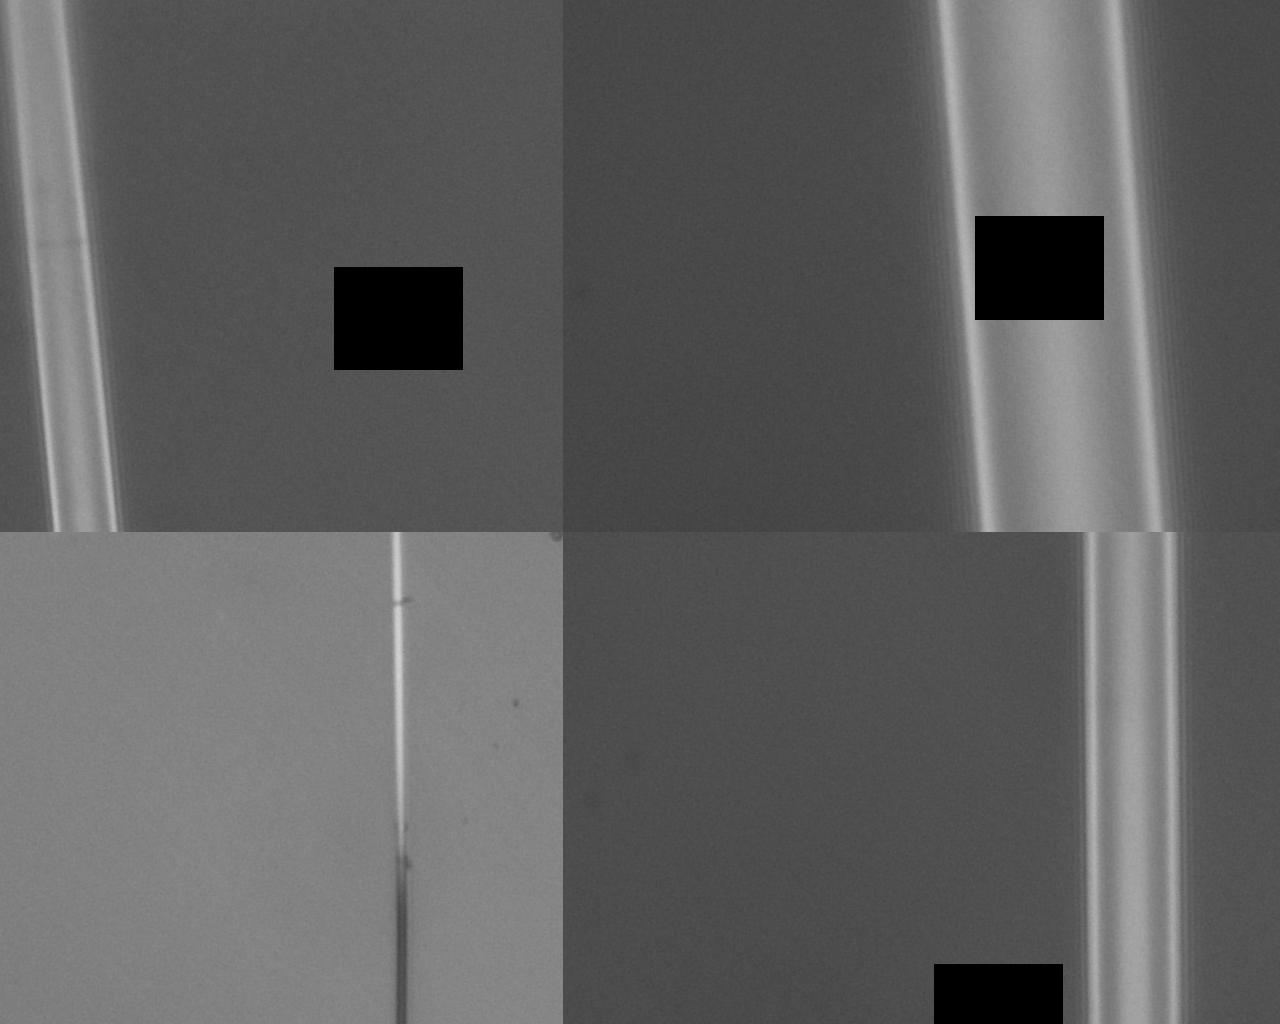fiber: (558, 450, 652, 1024), (1108, 0, 1145, 450)
